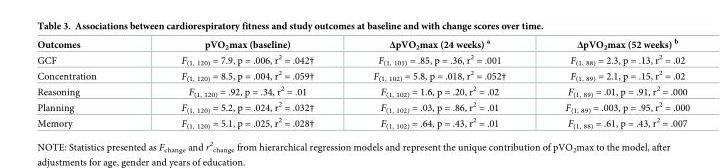table: (36, 37, 689, 129)
table column: (138, 37, 342, 129), (342, 37, 535, 129), (535, 37, 689, 129), (36, 37, 138, 129)
table column header: (36, 37, 689, 51)
table row: (36, 51, 689, 67), (36, 67, 689, 83), (36, 83, 689, 99), (36, 99, 689, 114), (36, 114, 689, 129), (36, 37, 689, 51)
